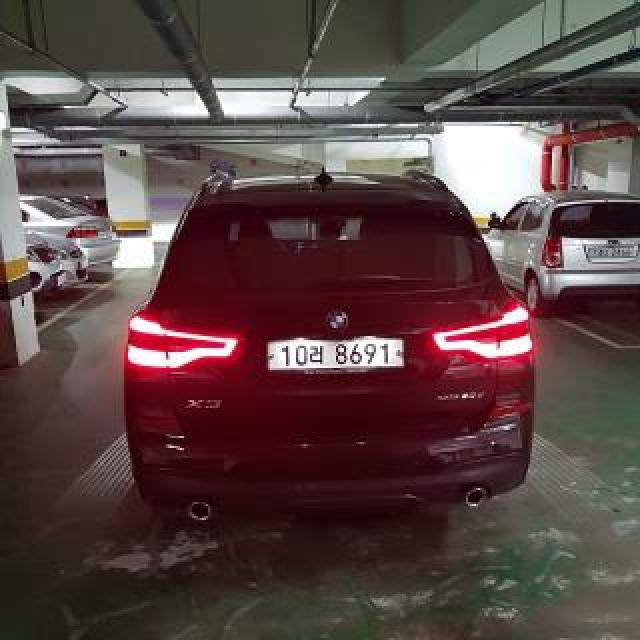car: (116, 158, 542, 536)
illegal_plate: (260, 333, 407, 380)
